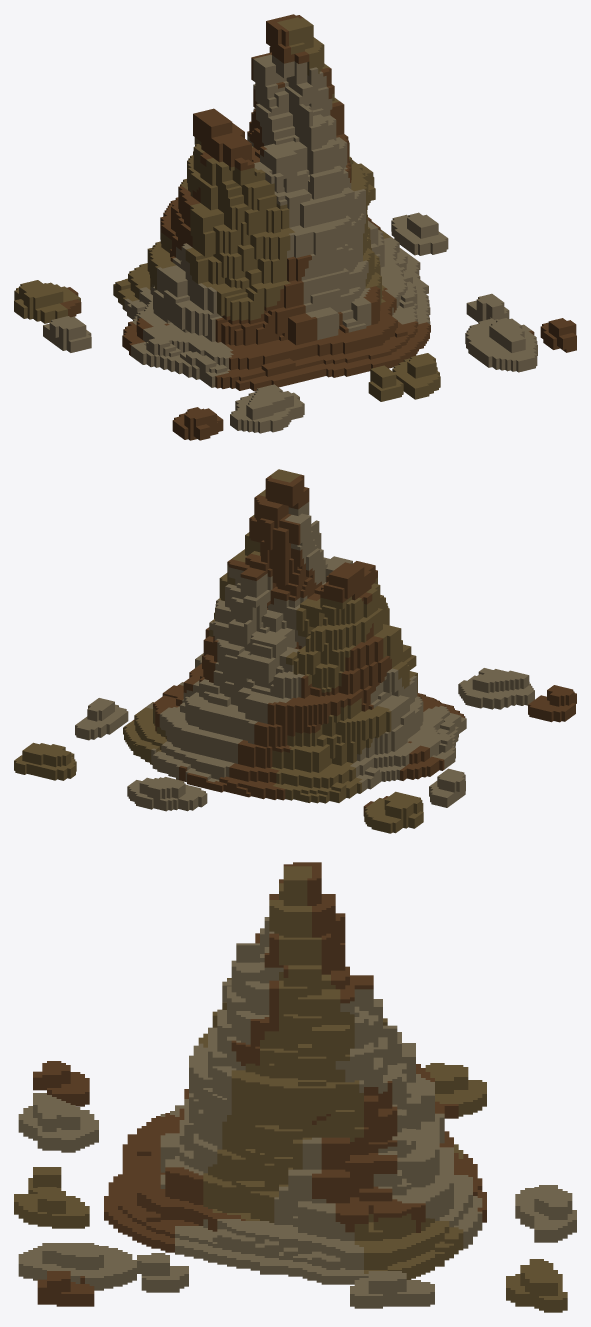
Rendered from pileStone2.obj.
The picture shows the model from 3 angles, top to bottom: view 1: azimuth 30°, elevation 25°; view 2: azimuth 150°, elevation 25°; view 3: azimuth 270°, elevation 25°; orthographic projection. The views are drawn at different scales.
Size of the model in its own units: 11.5 by 7.8 by 11.9.
1 material, 1 textured.
